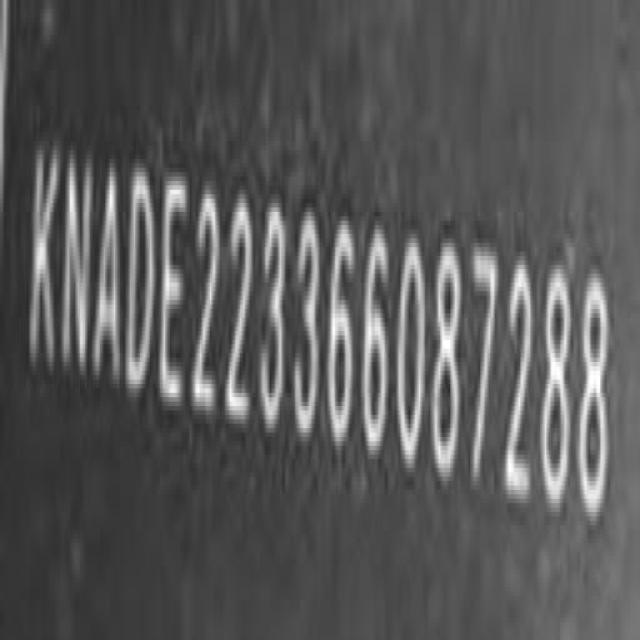0: (396, 233, 430, 476)
2: (504, 251, 538, 513), (193, 174, 224, 433), (224, 182, 254, 435)
3: (258, 196, 289, 444), (294, 204, 324, 448)
6: (326, 211, 360, 453), (361, 217, 393, 463)
7: (465, 236, 499, 505)
8: (541, 262, 576, 518), (580, 272, 613, 528), (432, 230, 464, 488)
A: (94, 154, 126, 396)
D: (126, 168, 158, 399)
E: (158, 168, 190, 420)
K: (30, 138, 61, 382)
N: (63, 147, 93, 383)
